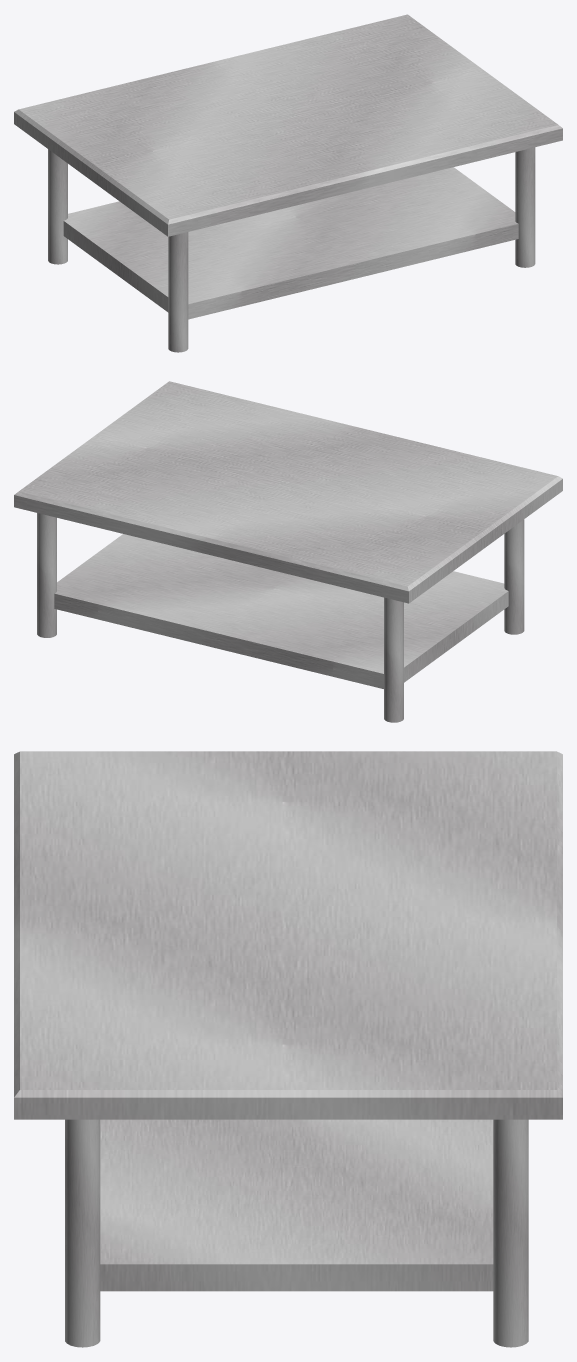
File: Kitchen_Table_unwrapped.fbx
3 views of the same model, one above another, from view 1: azimuth 30°, elevation 25°; view 2: azimuth 150°, elevation 25°; view 3: azimuth 270°, elevation 25° (orthographic). The views are drawn at different scales.
Parts seen in each view (by area): view 1: Box002, Box003, Cylinder001, Cylinder004, Cylinder002; view 2: Box002, Box003, Cylinder002, Cylinder003, Cylinder001; view 3: Box002, Box003, Cylinder003, Cylinder004.
Part boxes in pixels (x1,y1,x2,y2): Box002: [14, 14, 562, 236]; Box003: [63, 167, 518, 319]; Cylinder001: [168, 232, 188, 352]; Cylinder004: [515, 147, 535, 267]; Cylinder002: [48, 149, 67, 264]; Box002: [14, 381, 562, 603]; Box003: [54, 534, 508, 688]; Cylinder002: [384, 597, 403, 722]; Cylinder003: [37, 513, 56, 637]; Cylinder001: [504, 519, 524, 634]; Box002: [14, 751, 562, 1119]; Box003: [100, 1119, 493, 1291]; Cylinder003: [493, 1119, 528, 1347]; Cylinder004: [65, 1119, 100, 1347].
Bounding box in the file's own units: 136 × 48.59 × 91.7.
